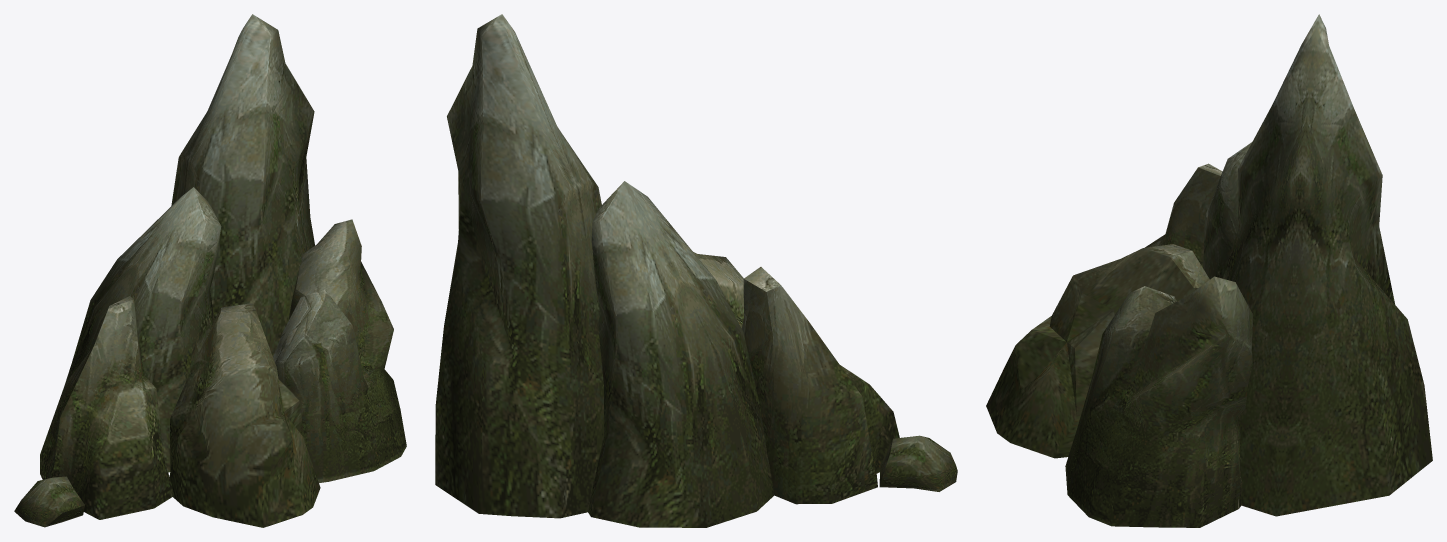
The model's file is 3004_Item_shitou_8.FBX.
The picture shows the model from 3 angles, left to right: view 1: azimuth 30°, elevation 25°; view 2: azimuth 150°, elevation 25°; view 3: azimuth 270°, elevation 25°; orthographic projection. The views are drawn at different scales.
Parts seen in each view (by area): view 1: 3004_Item_shitou_8; view 2: 3004_Item_shitou_8; view 3: 3004_Item_shitou_8.
Part boxes in pixels (x1,y1,x2,y2): 3004_Item_shitou_8: [14, 14, 406, 527]; 3004_Item_shitou_8: [435, 14, 957, 527]; 3004_Item_shitou_8: [986, 14, 1432, 527].
Bounding box in the file's own units: 294 × 287 × 247.
